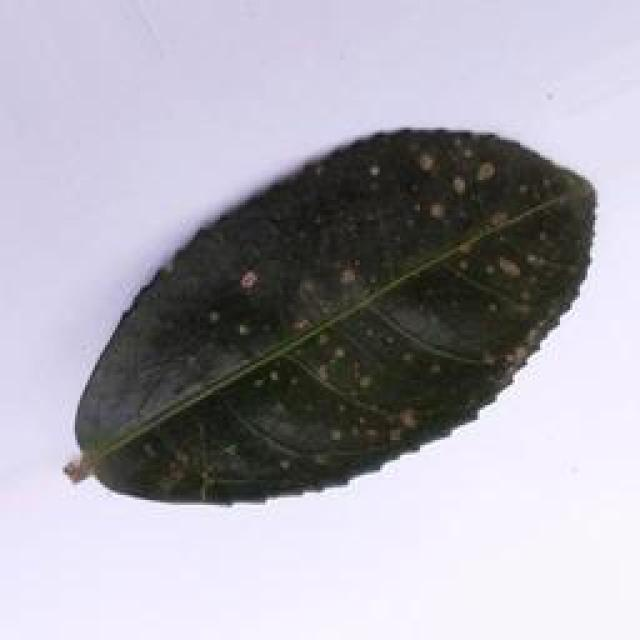Algal Leaf Spot: (56, 119, 615, 516)
